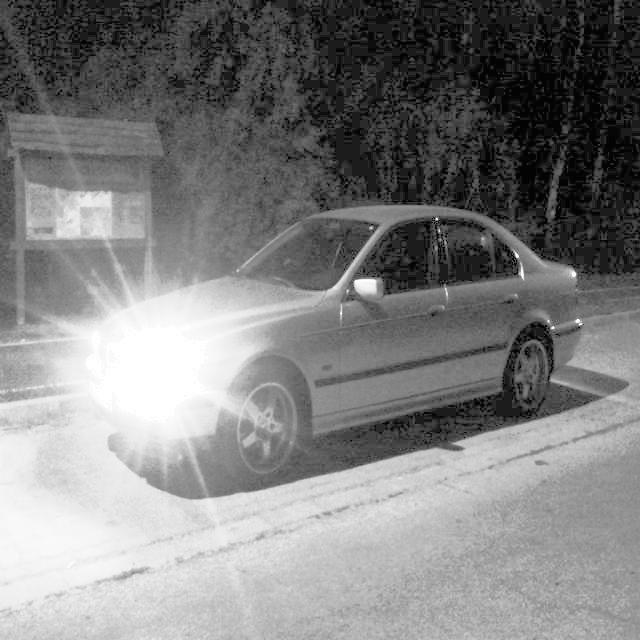Car: (64, 176, 602, 495)
